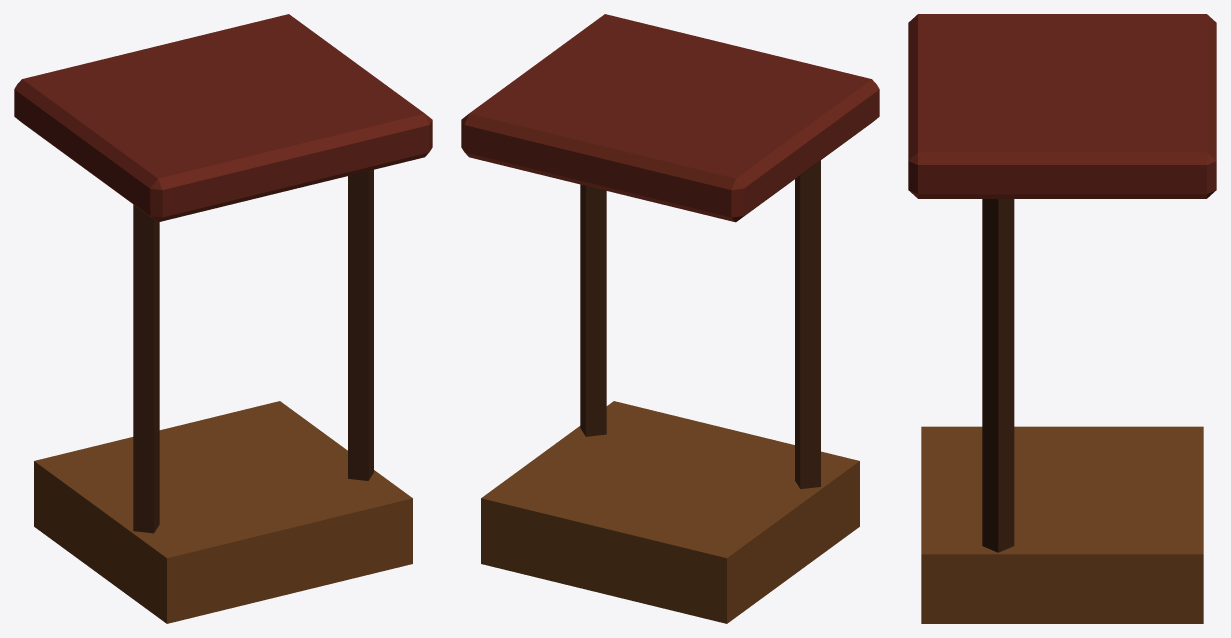
The model's file is HouseBridge.fbx.
3 views of the same model, side by side, from view 1: azimuth 30°, elevation 25°; view 2: azimuth 150°, elevation 25°; view 3: azimuth 270°, elevation 25° (orthographic). The views are drawn at different scales.
Parts seen in each view (by area): view 1: HouseBridge_Mesh; view 2: HouseBridge_Mesh; view 3: HouseBridge_Mesh.
Part boxes in pixels (left/top/right/bottom): HouseBridge_Mesh: left=14, top=14, right=432, bottom=623; HouseBridge_Mesh: left=461, top=14, right=879, bottom=623; HouseBridge_Mesh: left=908, top=14, right=1216, bottom=623.
Bounding box in the file's own units: 0.54 × 0.82 × 0.48.
